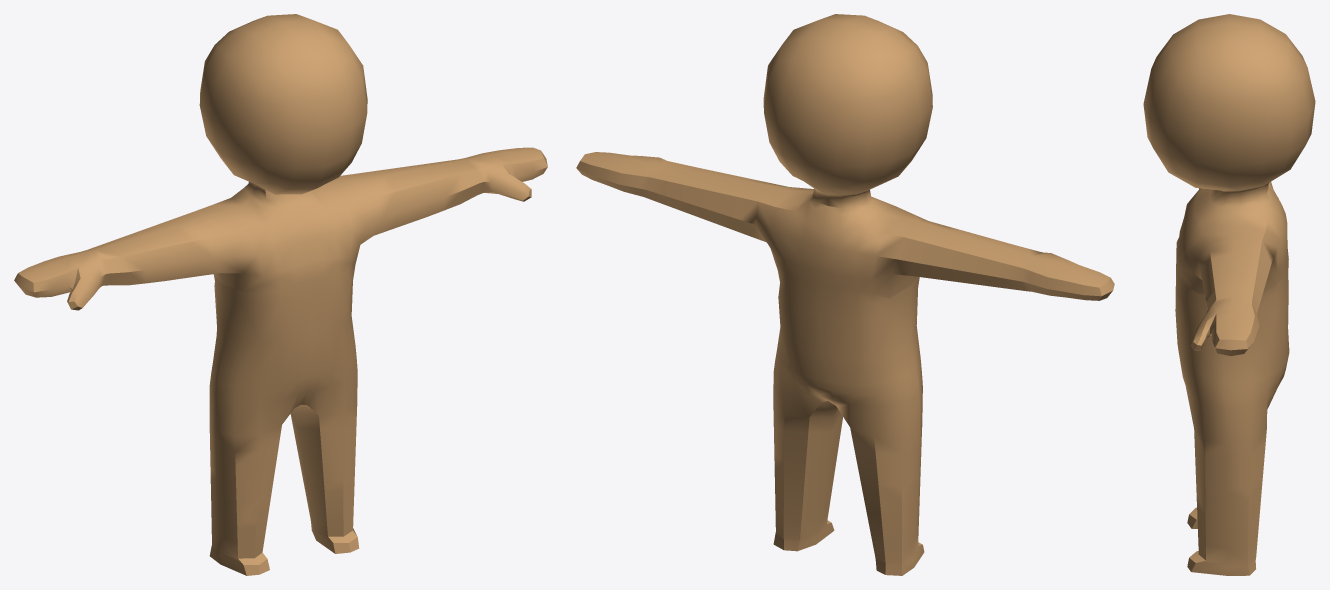
The model's file is BaseModel.fbx.
3 renders of one model, left to right at view 1: azimuth 30°, elevation 25°; view 2: azimuth 150°, elevation 25°; view 3: azimuth 270°, elevation 25°, orthographic.
Visible parts, largest first — view 1: Main Mesh; view 2: Main Mesh; view 3: Main Mesh.
Part boxes in pixels (x1=…): Main Mesh: x1=14, y1=14, x2=547, y2=575; Main Mesh: x1=576, y1=14, x2=1114, y2=575; Main Mesh: x1=1143, y1=14, x2=1315, y2=575.
Size of the model in its own units: 132 by 126 by 37.67.
